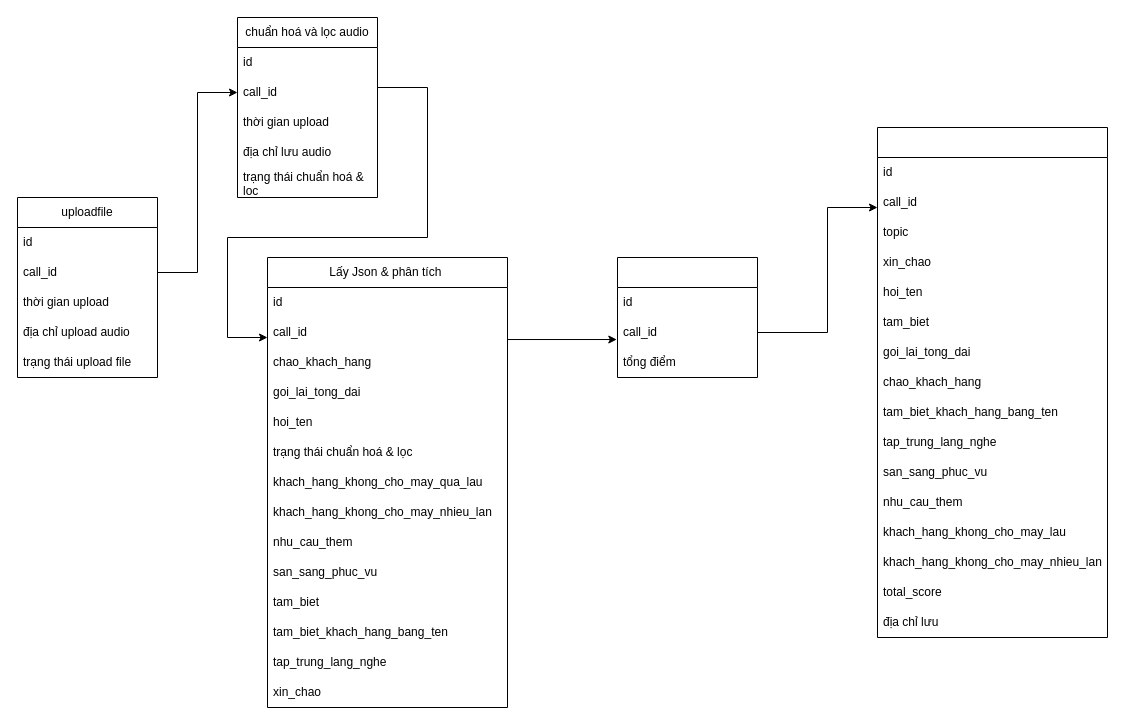
Some shapes in this 1125 by 725 pixel diagram are drawn without their labels. Here are the shapes that lost their labels. From the top down, the box of each, then its label:
(616, 256, 758, 378): chấm điểm
(876, 126, 1108, 638): chi tiết điểm
